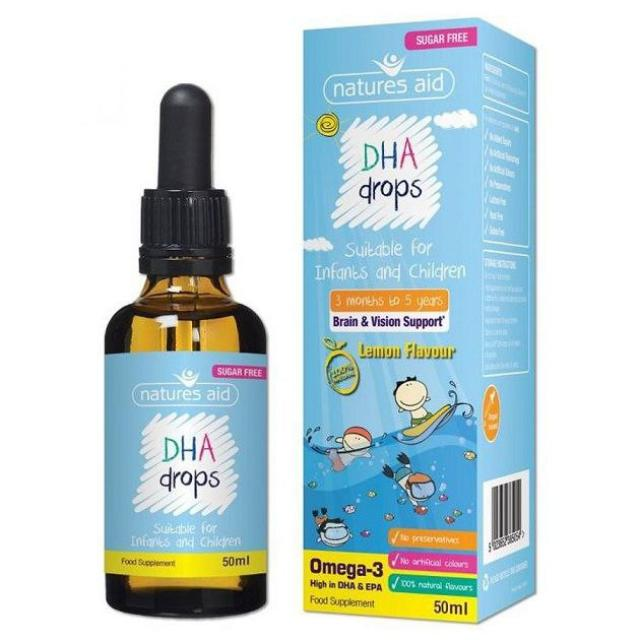formula-milk: (110, 317, 264, 611)
mini-drop: (305, 27, 486, 616)
